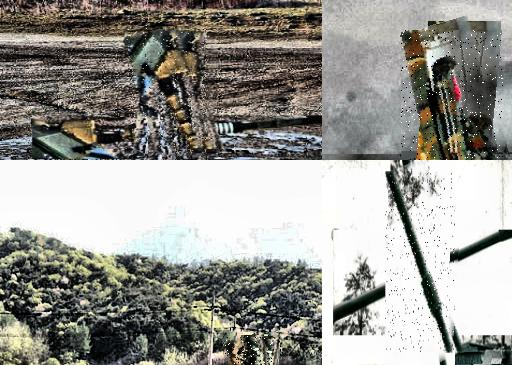tanks: (386, 172, 456, 354), (402, 31, 499, 161), (127, 29, 207, 156), (424, 345, 512, 365), (226, 334, 266, 365)
